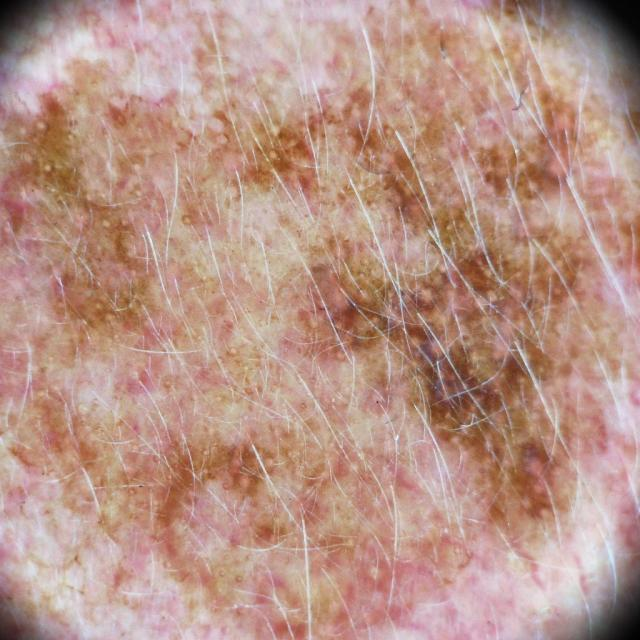Benign-Keratosis-like-Lesions-BKL-: (42, 71, 594, 554)
